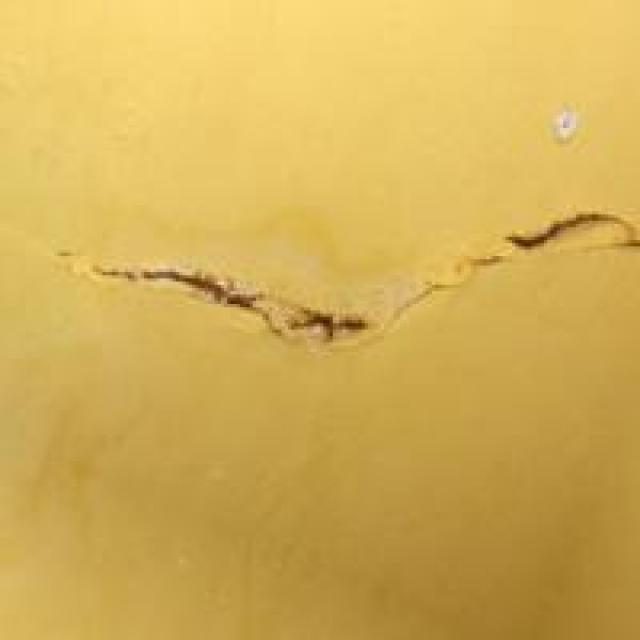crack: (54, 147, 637, 400)
